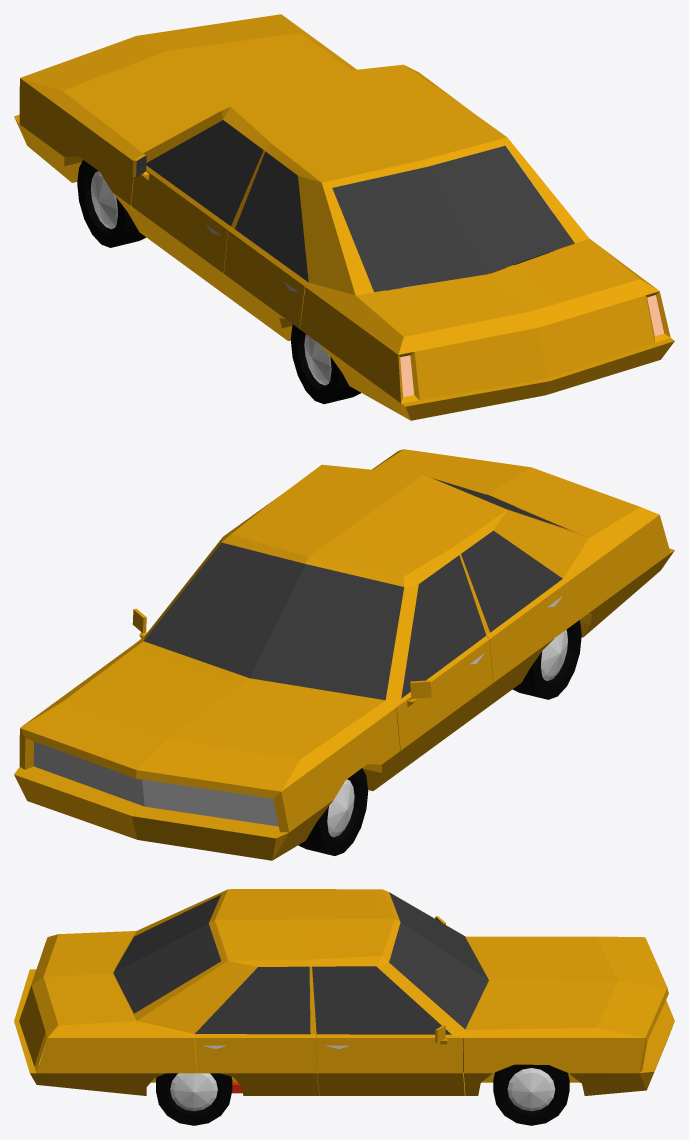
The model's file is Car_Long_4.glb.
The picture shows the model from 3 angles, top to bottom: view 1: azimuth 30°, elevation 25°; view 2: azimuth 150°, elevation 25°; view 3: azimuth 270°, elevation 25°; orthographic projection. The views are drawn at different scales.
Parts seen in each view (by area): view 1: SedanA_Body.003, SedanA_DoorL.003, SedanA_DoorL2.003, Sedan_A_wheelFL.003, Sedan_A_wheelRL.003; view 2: SedanA_Body.003, SedanA_DoorL.003, SedanA_DoorL2.003, Sedan_A_wheelFL.003, Sedan_A_wheelRL.003; view 3: SedanA_Body.003, SedanA_DoorR.003, SedanA_DoorR2.003, Sedan_A_wheelFR.003, Sedan_A_wheelRR.003.
Part boxes in pixels (x1=…): SedanA_Body.003: x1=14, y1=14, x2=674, y2=420; SedanA_DoorL.003: x1=131, y1=120, x2=263, y2=305; SedanA_DoorL2.003: x1=224, y1=151, x2=308, y2=340; Sedan_A_wheelFL.003: x1=77, y1=160, x2=145, y2=247; Sedan_A_wheelRL.003: x1=290, y1=324, x2=360, y2=404; SedanA_Body.003: x1=14, y1=449, x2=674, y2=860; SedanA_DoorL.003: x1=382, y1=555, x2=492, y2=784; SedanA_DoorL2.003: x1=461, y1=530, x2=568, y2=717; Sedan_A_wheelFL.003: x1=298, y1=768, x2=368, y2=855; Sedan_A_wheelRL.003: x1=512, y1=620, x2=581, y2=699; SedanA_Body.003: x1=14, y1=889, x2=674, y2=1095; SedanA_DoorR.003: x1=312, y1=966, x2=464, y2=1095; SedanA_DoorR2.003: x1=194, y1=966, x2=319, y2=1095; Sedan_A_wheelFR.003: x1=493, y1=1064, x2=569, y2=1125; Sedan_A_wheelRR.003: x1=156, y1=1073, x2=232, y2=1125.
Size of the model in its own units: 2.14 by 1.41 by 5.18.
